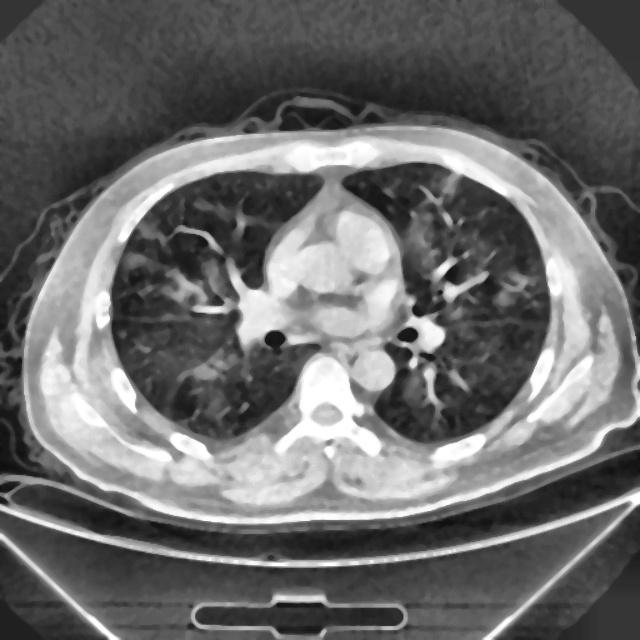covid: (15, 96, 638, 533)
